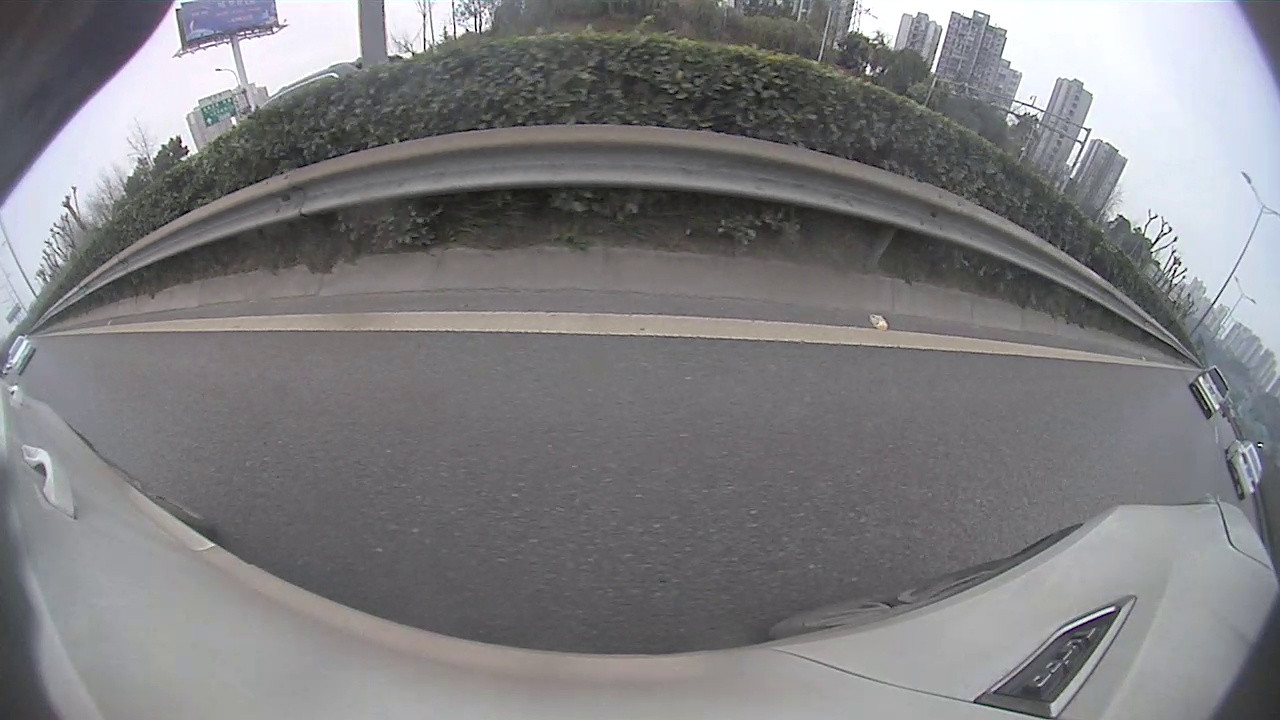car: (1224, 437, 1260, 498), (1189, 364, 1230, 417), (9, 337, 36, 374)
